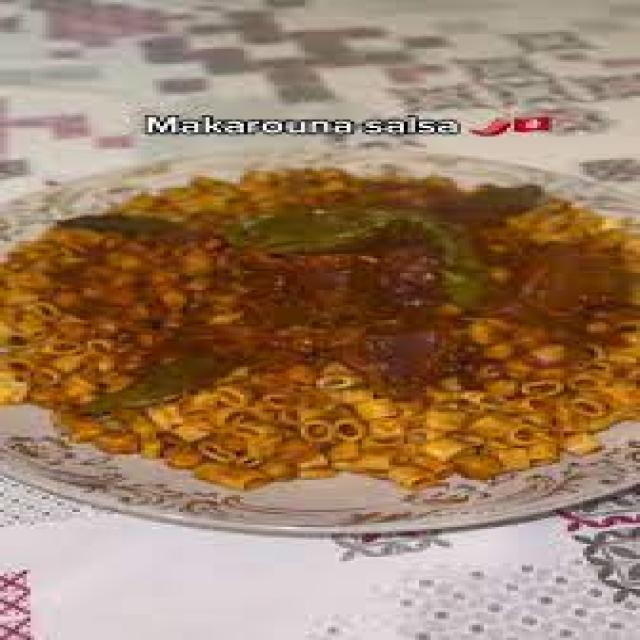Pasta: (0, 148, 640, 540)
